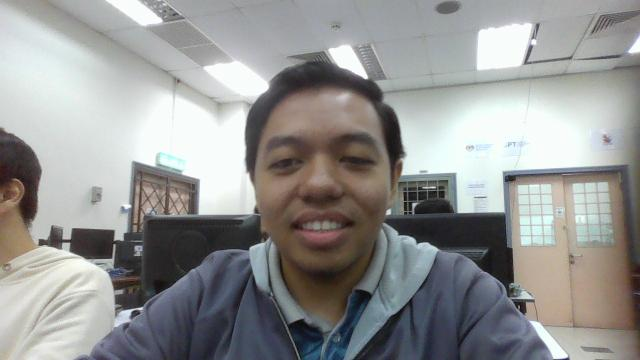senang: (242, 59, 411, 278)
